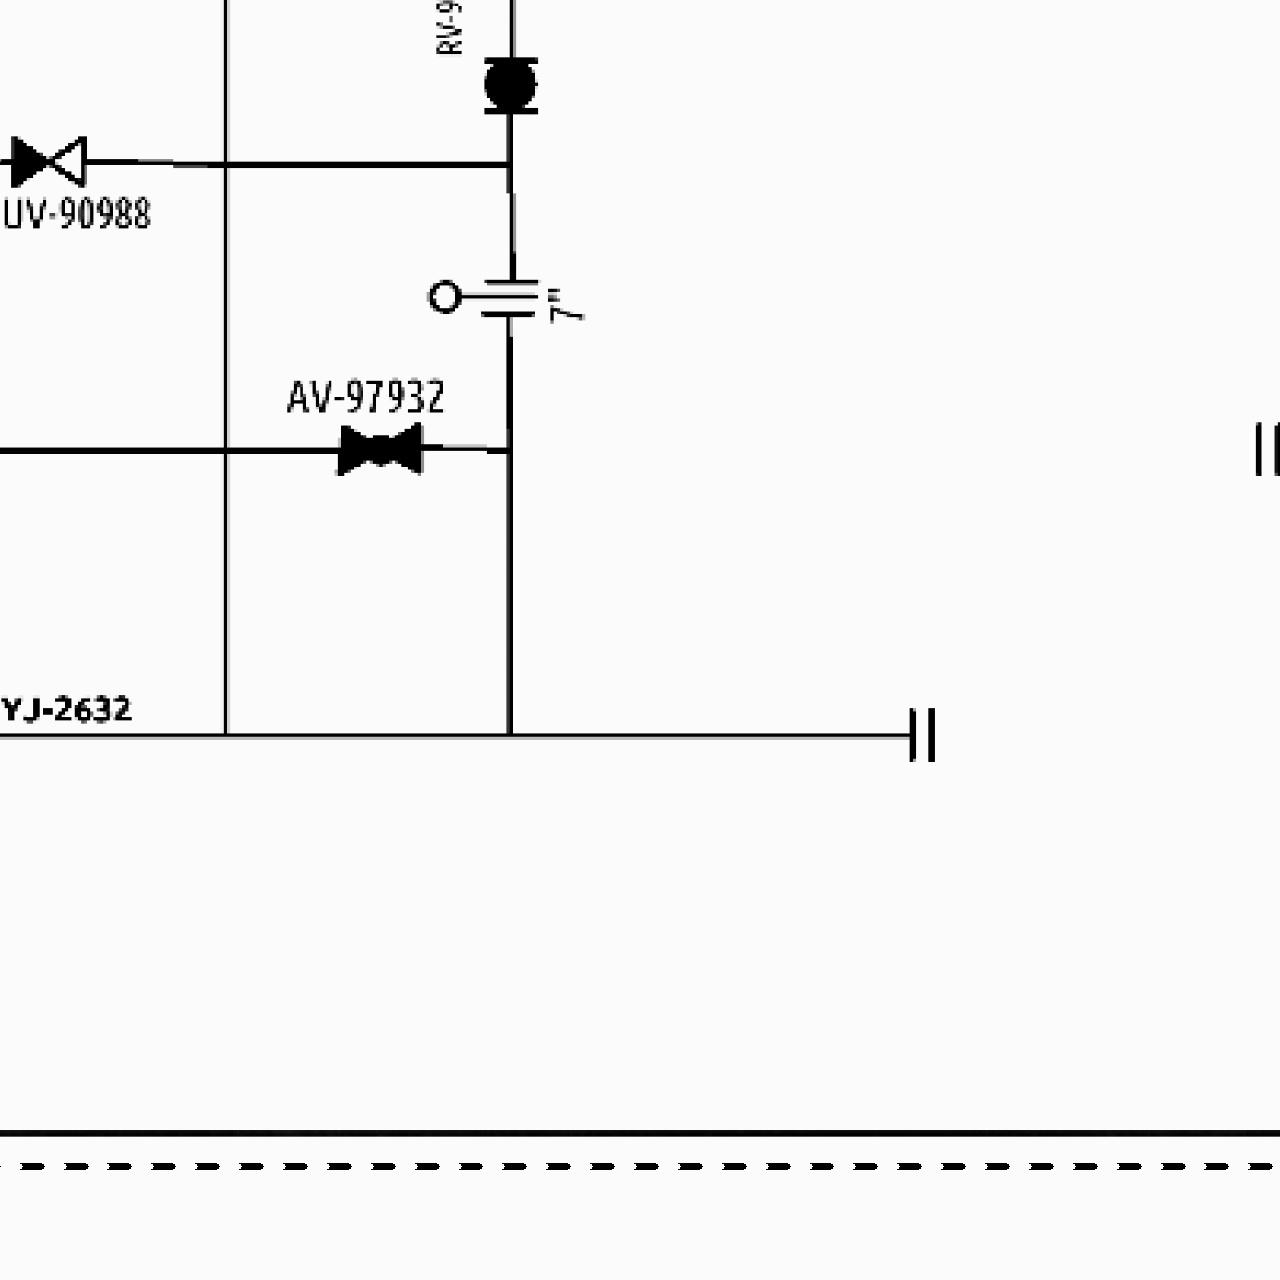Half closed valve: (6, 130, 89, 191)
